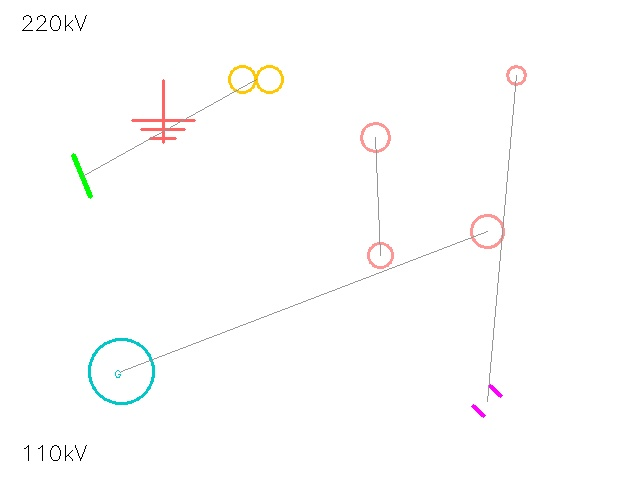busbar: (54, 148, 110, 204)
capacitor: (465, 379, 509, 423)
generator: (89, 339, 153, 403)
ground: (132, 80, 194, 142)
load_break_switch: (497, 56, 535, 94)
reactor: (347, 109, 403, 165), (356, 231, 404, 279)
transformer_2w: (223, 46, 289, 112)
voltage_transformer: (455, 199, 519, 263)
